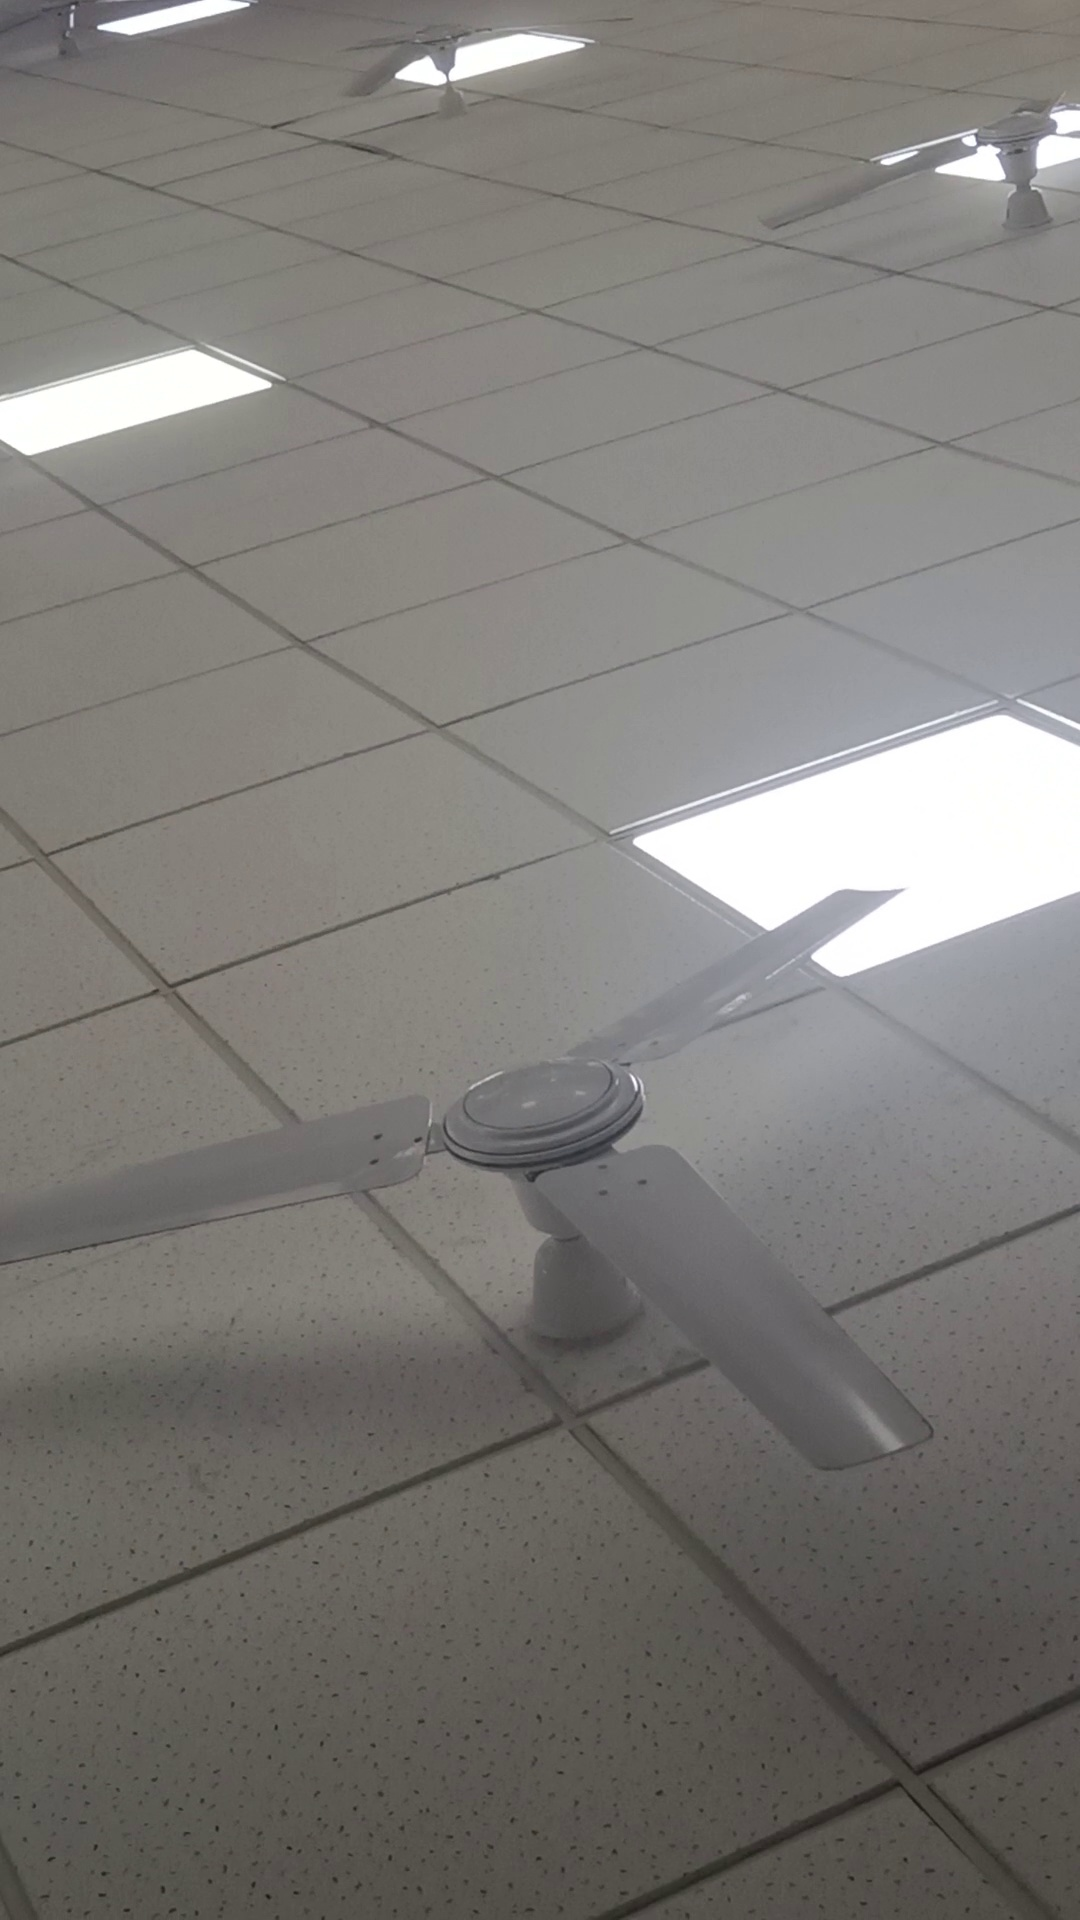fan: (1, 829, 1014, 1527), (756, 113, 1080, 285), (340, 11, 537, 175), (1, 1, 146, 78)
